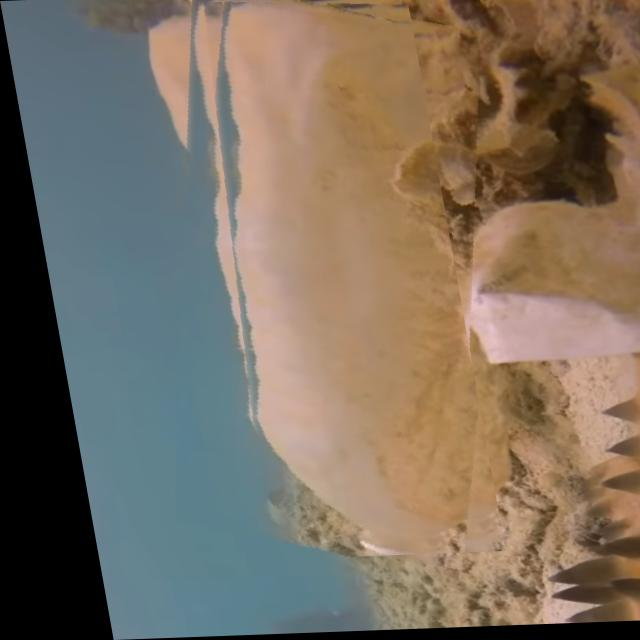plasticbottle: (215, 3, 446, 557)
